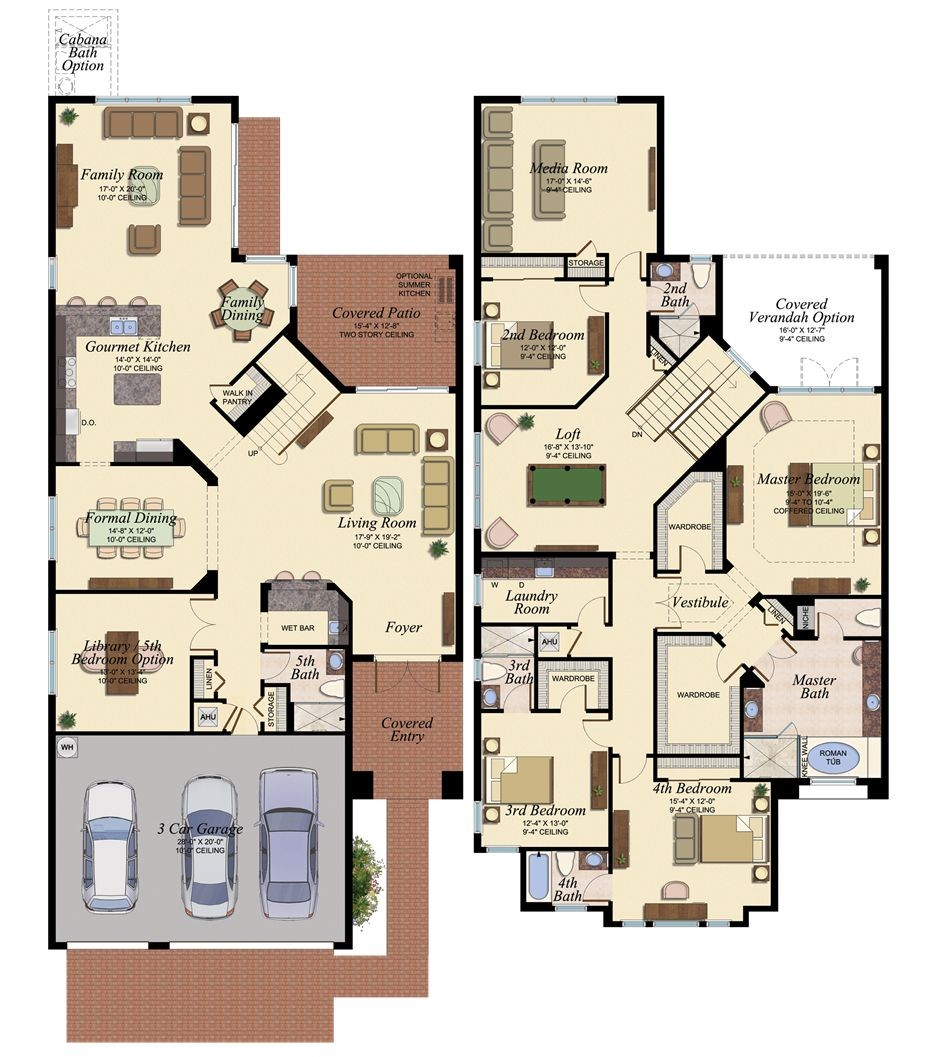wall: (455, 255, 464, 656), (882, 256, 888, 781), (345, 650, 353, 952), (45, 291, 55, 498), (48, 696, 56, 950), (46, 99, 56, 260), (474, 95, 481, 320), (657, 97, 664, 261), (472, 683, 481, 801), (651, 632, 658, 759), (52, 730, 231, 734), (476, 552, 615, 557), (722, 436, 727, 574), (48, 590, 218, 594), (715, 256, 723, 341), (772, 779, 777, 908), (608, 748, 613, 875), (47, 559, 55, 633), (763, 595, 882, 599), (617, 95, 664, 105), (474, 366, 481, 431), (474, 95, 521, 104), (740, 678, 744, 780), (477, 253, 574, 257), (189, 655, 194, 731), (646, 754, 740, 758), (260, 731, 353, 735), (261, 645, 353, 649), (47, 95, 93, 103), (519, 847, 611, 851), (288, 307, 299, 340), (474, 607, 481, 658), (534, 624, 538, 712), (190, 95, 240, 102), (110, 461, 192, 465), (608, 658, 613, 721), (605, 312, 610, 375), (730, 778, 808, 782), (473, 405, 576, 408), (474, 530, 481, 574), (475, 623, 577, 626), (609, 552, 613, 625), (653, 504, 657, 577), (229, 96, 240, 120), (521, 847, 525, 911), (648, 255, 689, 261), (653, 632, 714, 636), (521, 903, 551, 911), (345, 655, 374, 663), (554, 276, 611, 280), (535, 657, 611, 660), (348, 605, 353, 650), (207, 571, 217, 592), (287, 684, 291, 735), (260, 583, 267, 612), (147, 941, 167, 950), (604, 906, 613, 926), (442, 654, 463, 662), (605, 252, 610, 285), (843, 636, 884, 640), (744, 906, 776, 911), (856, 779, 888, 784), (647, 313, 650, 356), (50, 462, 80, 466), (588, 906, 612, 911), (646, 255, 651, 278), (474, 834, 480, 853), (230, 248, 238, 262), (532, 709, 560, 713), (564, 254, 568, 281), (790, 636, 817, 640), (191, 698, 226, 701), (743, 906, 748, 927), (653, 755, 657, 780), (655, 570, 680, 574), (731, 921, 747, 927), (475, 709, 504, 712), (587, 709, 608, 713), (289, 255, 297, 265), (705, 570, 724, 574), (214, 648, 218, 666), (596, 251, 609, 256), (605, 922, 621, 926), (260, 680, 264, 695), (328, 584, 337, 590)
